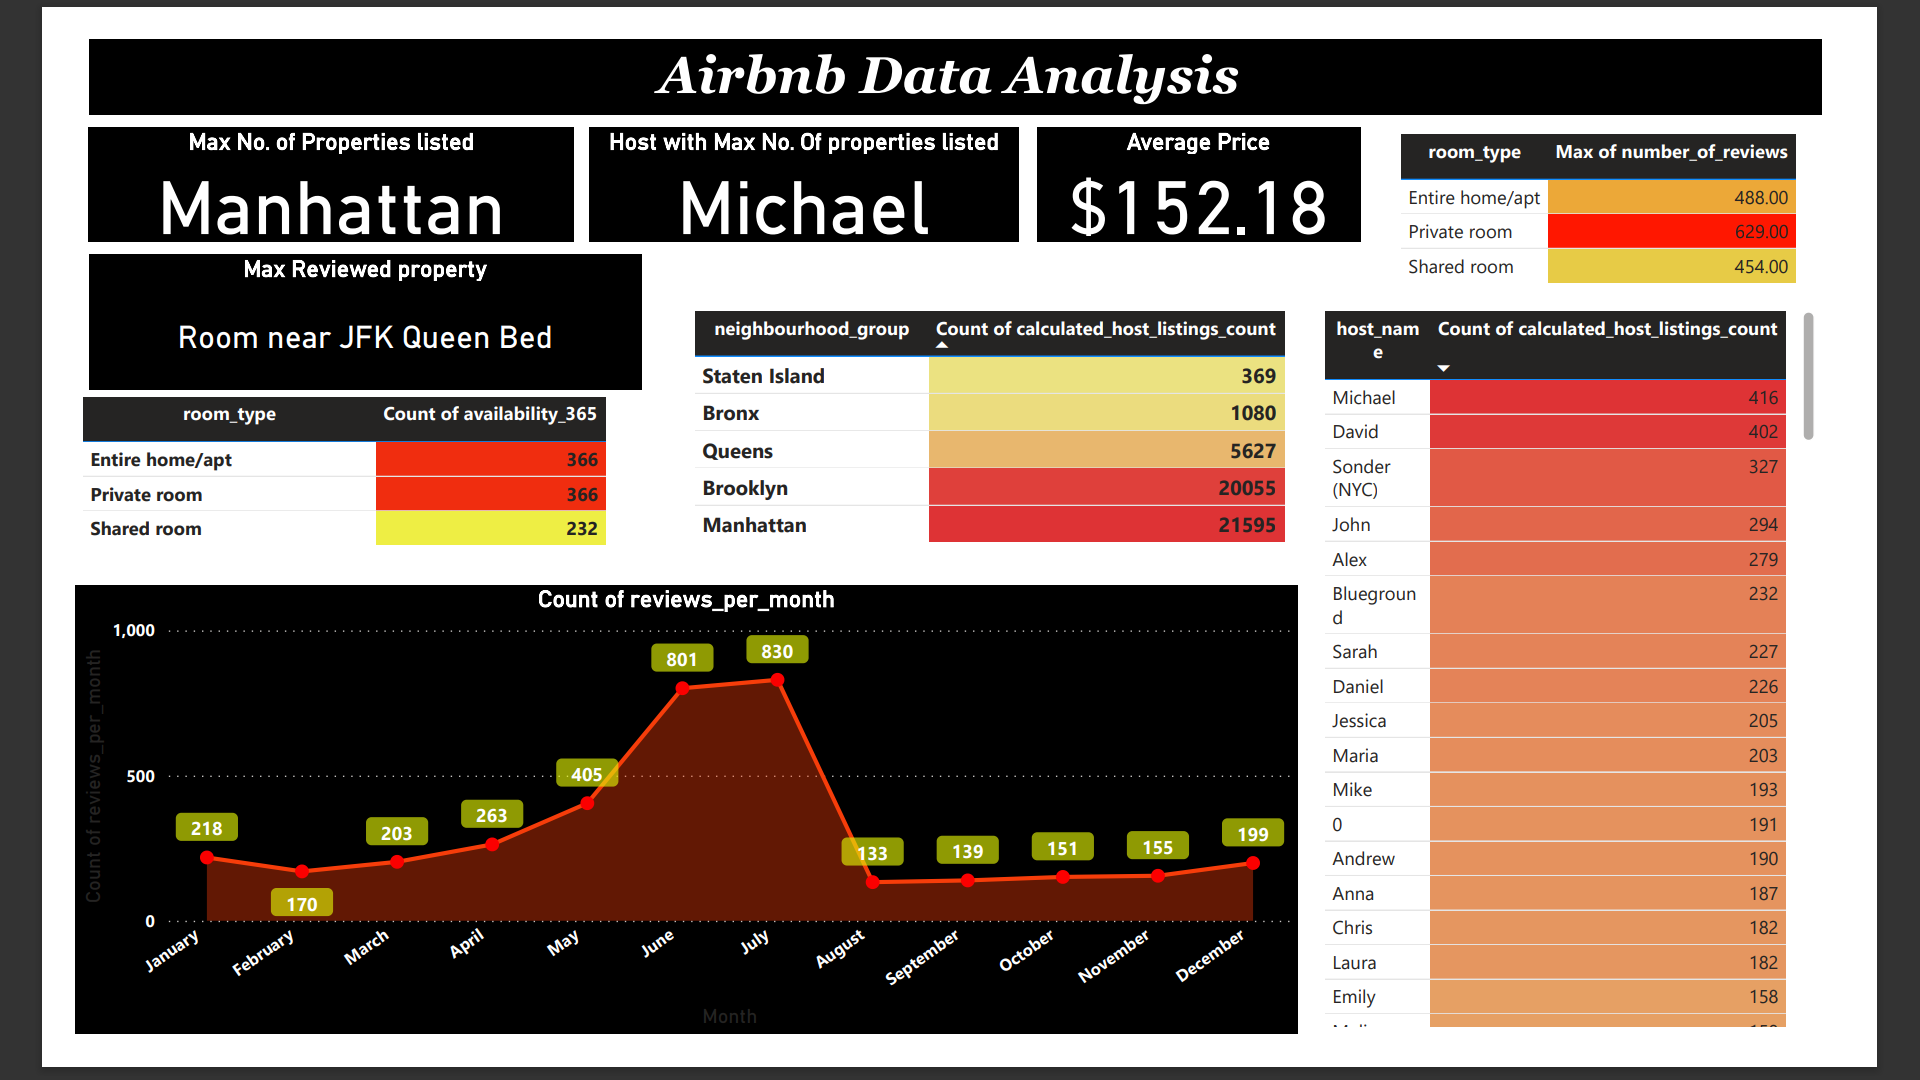

The dashboard page shown, as its layout file describes it:
{"tool":"powerbi","page":{"name":"overview","canvas":[1280,720],"ordinal":0},"visuals":[{"type":"card","title":"Max No. of Properties listed","fields":{"Values":["Min(AB_NYC_2019.neighbourhood_group)"]},"box":[9.6,64.4,351,82.3],"z":0},{"type":"card","title":"Host with Max No. Of properties listed ","fields":{"Values":["Min(AB_NYC_2019.host_name)"]},"box":[371.6,64.4,311.2,82.3],"z":1000},{"type":"tableEx","fields":{"Values":["AB_NYC_2019.neighbourhood_group","CountNonNull(AB_NYC_2019.calculated_host_listings_count)"]},"box":[442.8,191.9,441.5,181],"z":2000},{"type":"tableEx","fields":{"Values":["AB_NYC_2019.host_name","CountNonNull(AB_NYC_2019.calculated_host_listings_count)"]},"box":[899.4,191.9,364.7,527.9],"z":3000},{"type":"card","title":"Average Price","fields":{"Values":["Avg(AB_NYC_2019.price)"]},"box":[696.5,64.4,233.1,82.3],"z":4000},{"type":"tableEx","fields":{"Values":["AB_NYC_2019.room_type","Max(AB_NYC_2019.number_of_reviews)"]},"box":[954.2,64.4,309.9,127.5],"z":5000},{"type":"tableEx","fields":{"Values":["AB_NYC_2019.room_type","Count(AB_NYC_2019.availability_365)"]},"box":[0,253.6,390.7,130.2],"z":6000},{"type":"card","title":"Max Reviewed property","fields":{"Values":["Min(AB_NYC_2019.name)"]},"box":[9.6,156.3,400.3,97.3],"z":7000},{"type":"areaChart","title":"Count of reviews_per_month","fields":{"Y":["Count(AB_NYC_2019.reviews_per_month)"],"Category":["AB_NYC_2019.last_review.Variation.Date Hierarchy.Month"]},"box":[0,394.7,884.5,325.7],"z":8000},{"type":"textbox","box":[9.6,0,1254.5,54.8],"z":8001}]}

Visuals, with their boxes in screenshot pixels (x1, y1, x2, y2), scaled from the page's 1280x720 canvas onto the 1920x1080 screenshot:
"Max No. of Properties listed" card: rect(14, 97, 541, 220)
"Host with Max No. Of properties listed " card: rect(557, 97, 1024, 220)
tableEx - AB_NYC_2019.neighbourhood_group x CountNonNull(AB_NYC_2019.calculated_host_listings_count): rect(664, 288, 1326, 559)
tableEx - AB_NYC_2019.host_name x CountNonNull(AB_NYC_2019.calculated_host_listings_count): rect(1349, 288, 1896, 1079)
"Average Price" card: rect(1045, 97, 1394, 220)
tableEx - AB_NYC_2019.room_type x Max(AB_NYC_2019.number_of_reviews): rect(1431, 97, 1896, 288)
tableEx - AB_NYC_2019.room_type x Count(AB_NYC_2019.availability_365): rect(0, 380, 586, 576)
"Max Reviewed property" card: rect(14, 234, 615, 380)
"Count of reviews_per_month" areaChart: rect(0, 592, 1327, 1079)
textbox: rect(14, 0, 1896, 82)
